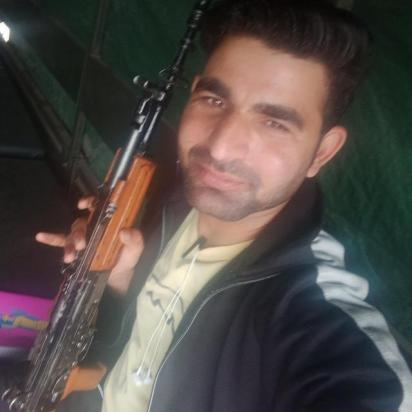Gun: (0, 0, 209, 411)
